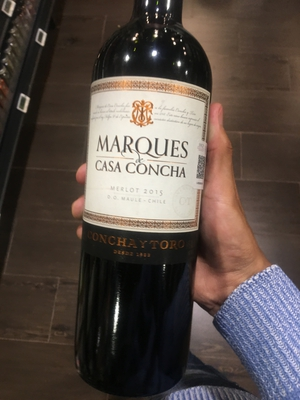marques de casa concha merlot: (71, 2, 226, 372)
